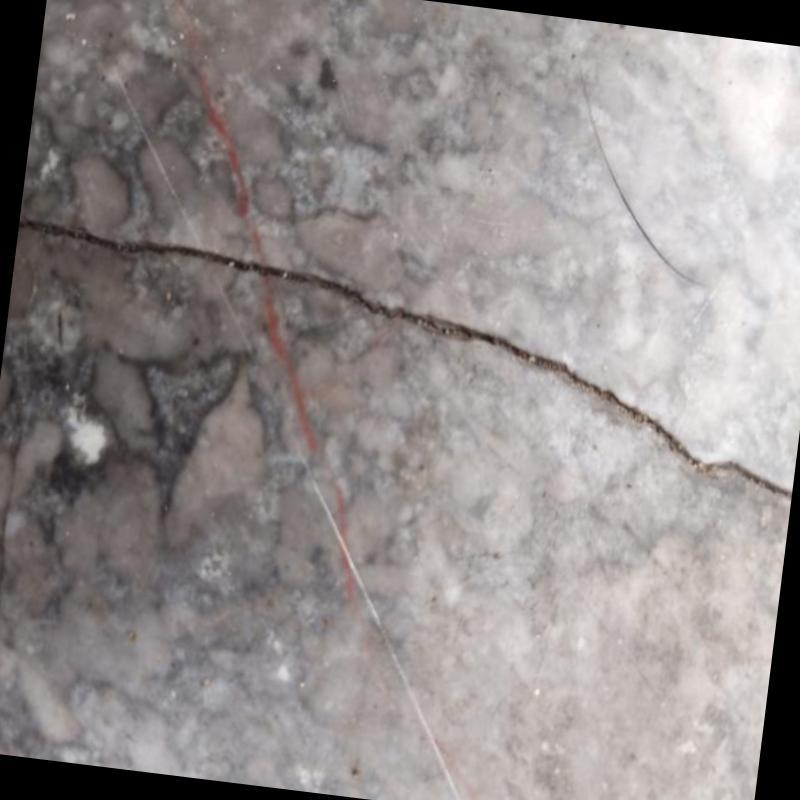pothole: (18, 217, 792, 498)
